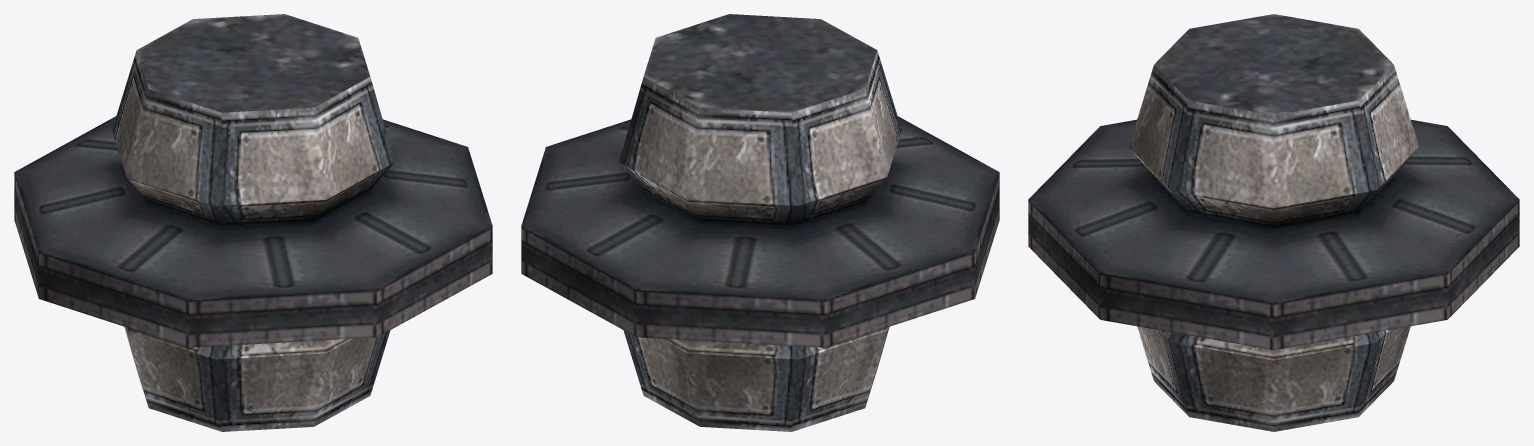
File: kessel_mine_turret_main_s01_l2.fbx
The picture shows the model from 3 angles, left to right: view 1: azimuth 30°, elevation 25°; view 2: azimuth 150°, elevation 25°; view 3: azimuth 270°, elevation 25°; orthographic projection.
Visible parts, largest first — view 1: mesh_node; view 2: mesh_node; view 3: mesh_node.
Part boxes in pixels (x1=…): mesh_node: x1=14, y1=14, x2=492, y2=431; mesh_node: x1=521, y1=14, x2=999, y2=431; mesh_node: x1=1028, y1=14, x2=1519, y2=431.
Size of the model in its own units: 8.9 by 6.32 by 8.9.
Materials: 1 (1 with a texture image).
